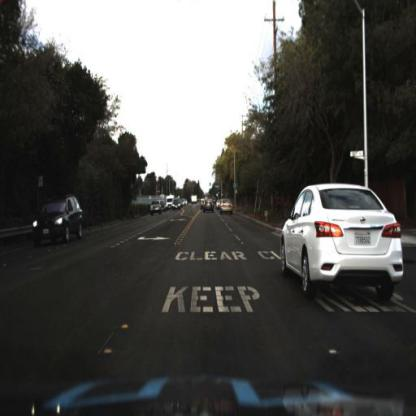car: (274, 177, 407, 301), (31, 195, 84, 248), (219, 197, 236, 220), (203, 196, 217, 216), (149, 199, 163, 217), (172, 199, 185, 213)
